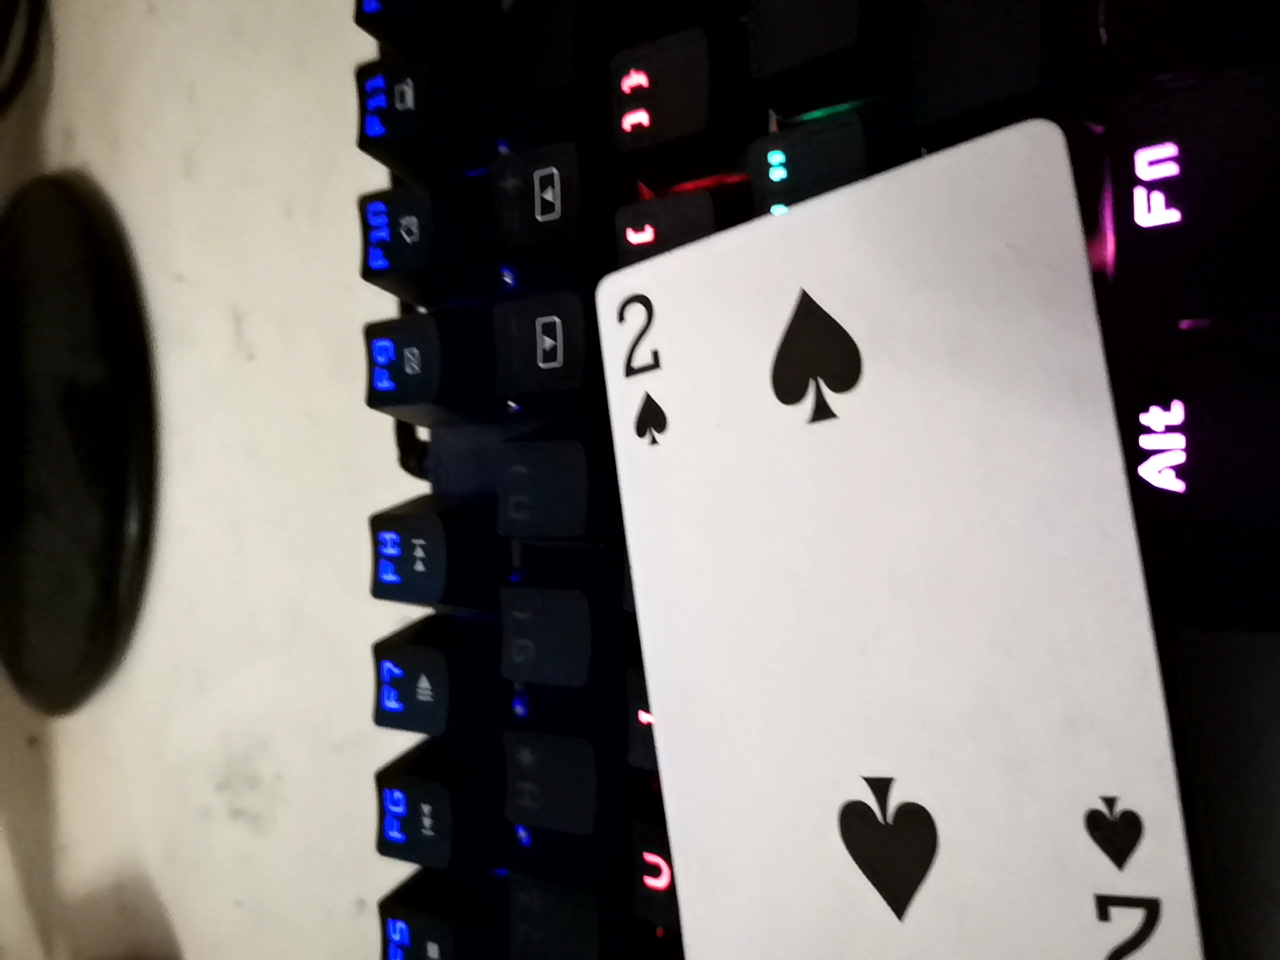ht 2: (640, 161, 1269, 957)
